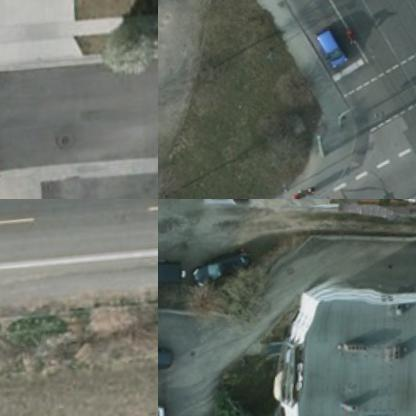car: (192, 243, 247, 282), (310, 20, 351, 69), (158, 249, 188, 283), (158, 340, 178, 374)
